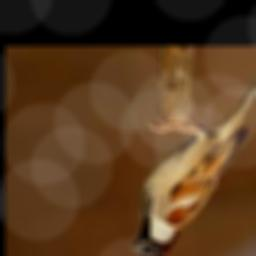Sparrow: (129, 66, 256, 256)
